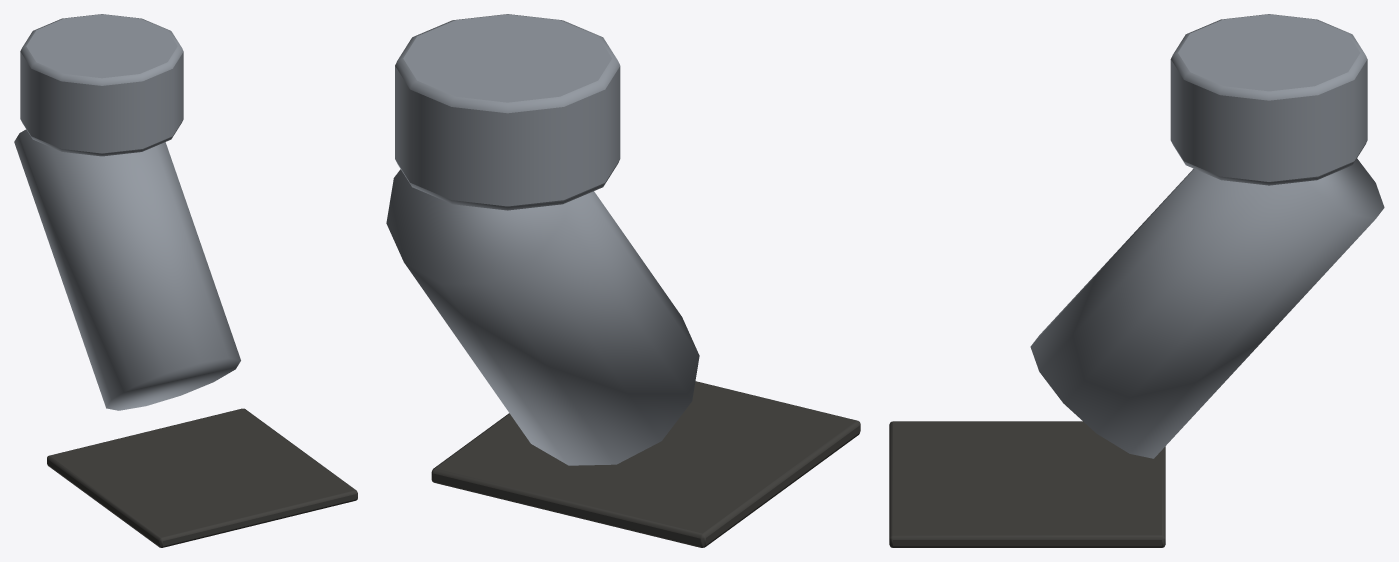
Rendered from pipe_shoe.fbx.
3 views of the same model, side by side, from view 1: azimuth 30°, elevation 25°; view 2: azimuth 150°, elevation 25°; view 3: azimuth 270°, elevation 25° (orthographic). The views are drawn at different scales.
Visible parts, largest first — view 1: pipe_shoe; view 2: pipe_shoe; view 3: pipe_shoe.
Boxes of the visible parts, box(x1,y1,x2,y2) form: pipe_shoe: box(14, 14, 357, 547); pipe_shoe: box(386, 14, 860, 547); pipe_shoe: box(889, 14, 1384, 547).
Bounding box in the file's own units: 0.16 × 0.2869 × 0.28.
